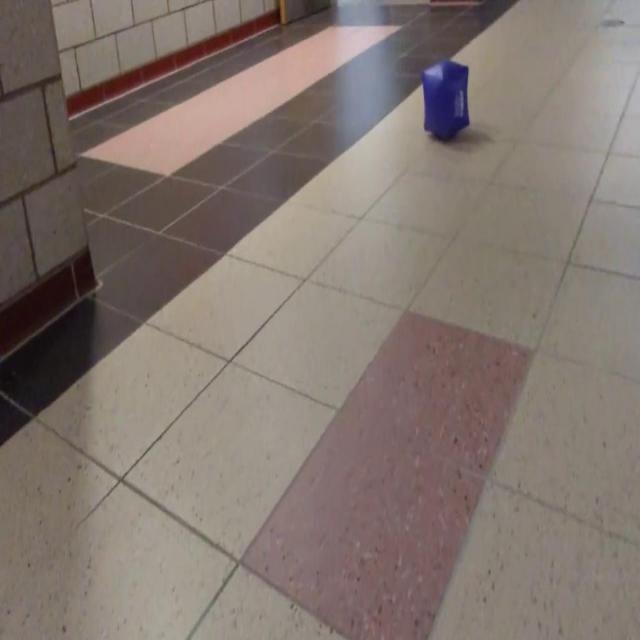frc_cube: (422, 61, 469, 140)
